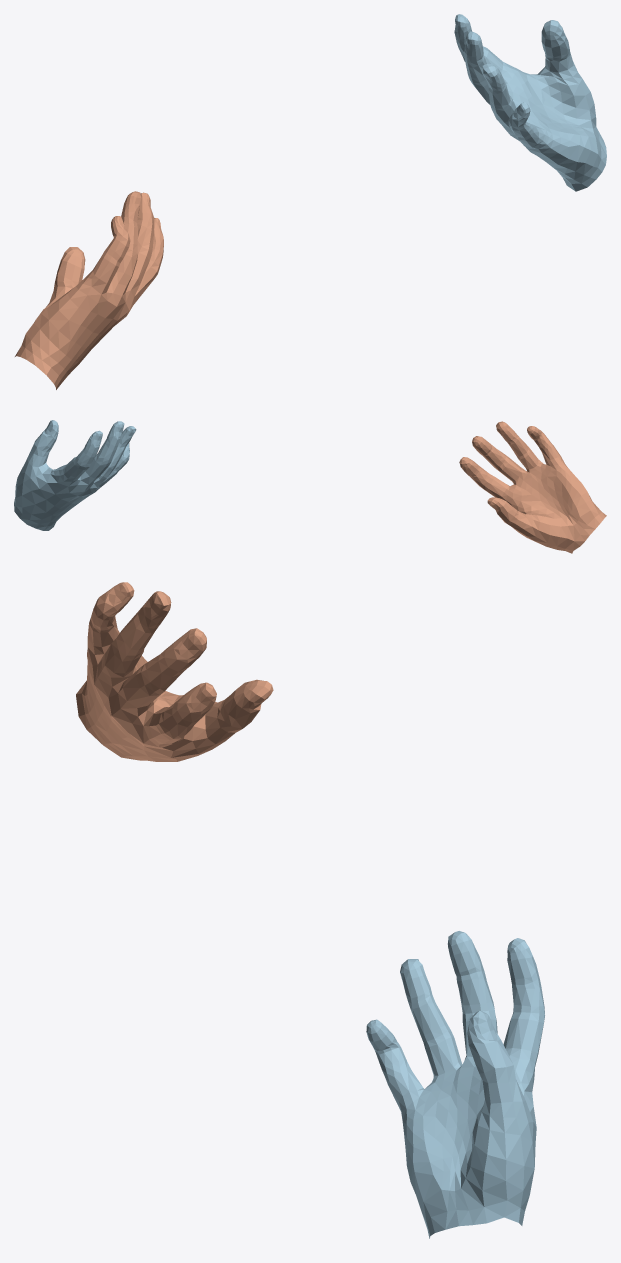
Rendered from frame_012.glb.
The picture shows the model from 3 angles, top to bottom: view 1: azimuth 30°, elevation 25°; view 2: azimuth 150°, elevation 25°; view 3: azimuth 270°, elevation 25°; orthographic projection. The views are drawn at different scales.
Visible parts, largest first — view 1: world; view 2: world; view 3: world.
Boxes of the visible parts, bbox=[...] form: world: bbox=[15, 14, 606, 389]; world: bbox=[14, 420, 606, 553]; world: bbox=[76, 582, 544, 1238].
Bounding box in the file's own units: 0.5975 × 0.1672 × 0.2463.
